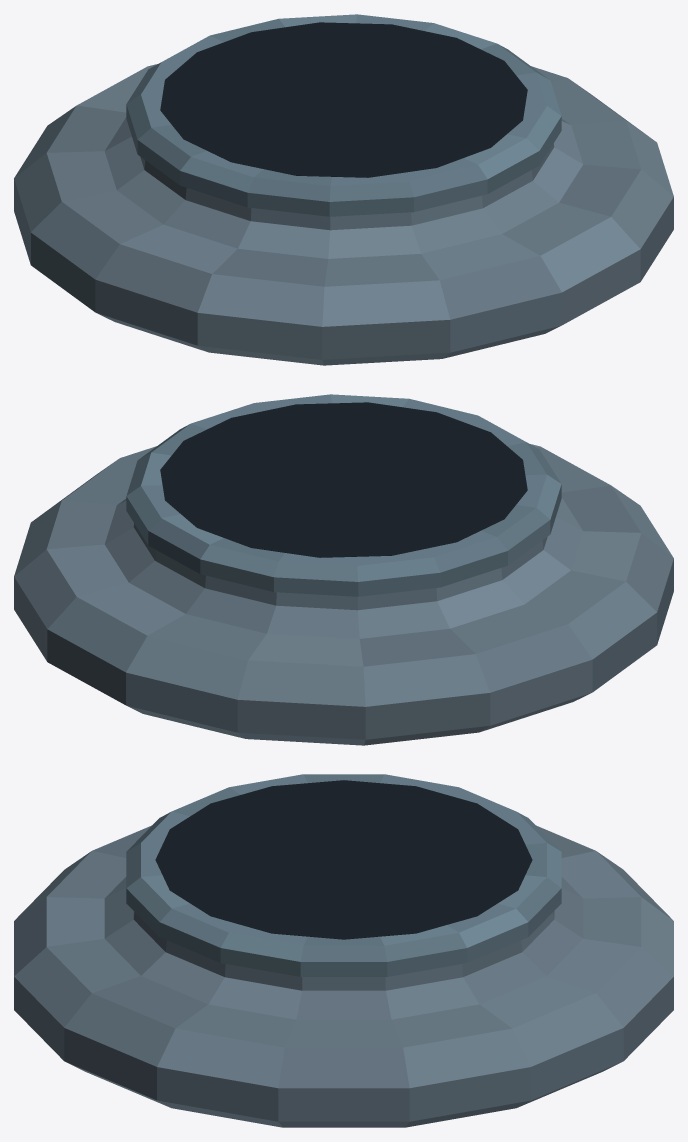
Rendered from ER_DisplayPedestal.fbx.
3 renders of one model, top to bottom at view 1: azimuth 30°, elevation 25°; view 2: azimuth 150°, elevation 25°; view 3: azimuth 270°, elevation 25°, orthographic.
Parts seen in each view (by area): view 1: ER_DisplayPedestal; view 2: ER_DisplayPedestal; view 3: ER_DisplayPedestal.
Part boxes in pixels (x1=…): ER_DisplayPedestal: x1=14, y1=14, x2=673, y2=365; ER_DisplayPedestal: x1=14, y1=394, x2=673, y2=745; ER_DisplayPedestal: x1=14, y1=774, x2=673, y2=1127.
Bounding box in the file's own units: 1.79 × 0.4155 × 1.79.
